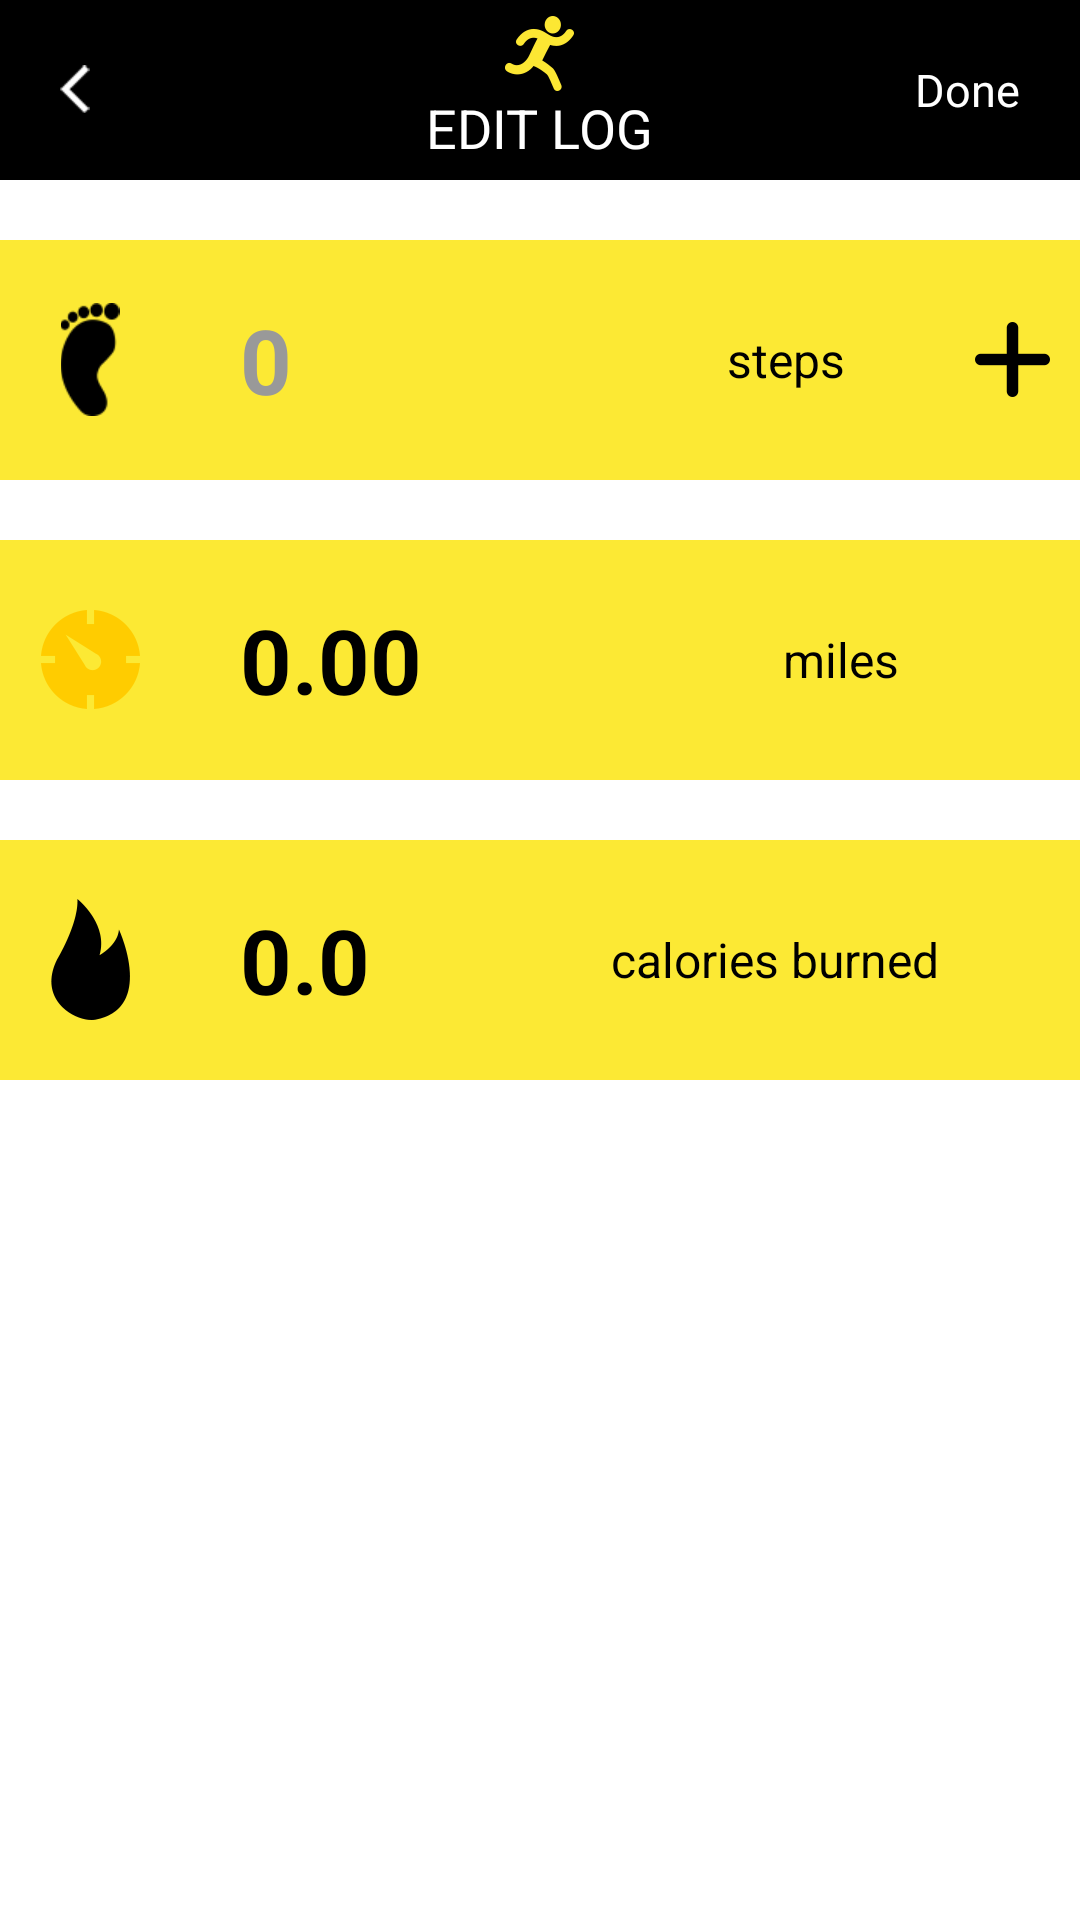

Icons on this 1080px×1920px Android screen, each with its box as (x1, y1, x2, y2):
add: (975, 322, 1050, 397)
item burn: (51, 899, 130, 1020)
item distance: (41, 610, 140, 709)
item steps: (61, 303, 120, 416)
